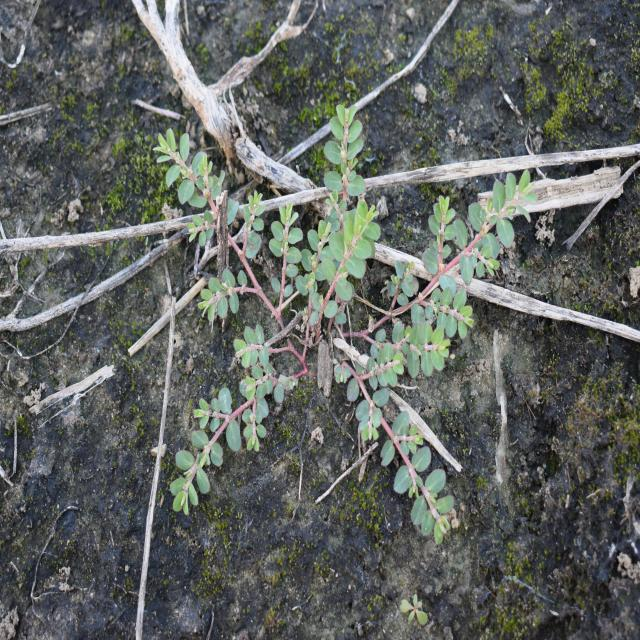SpottedSpurge: (150, 102, 539, 548)
